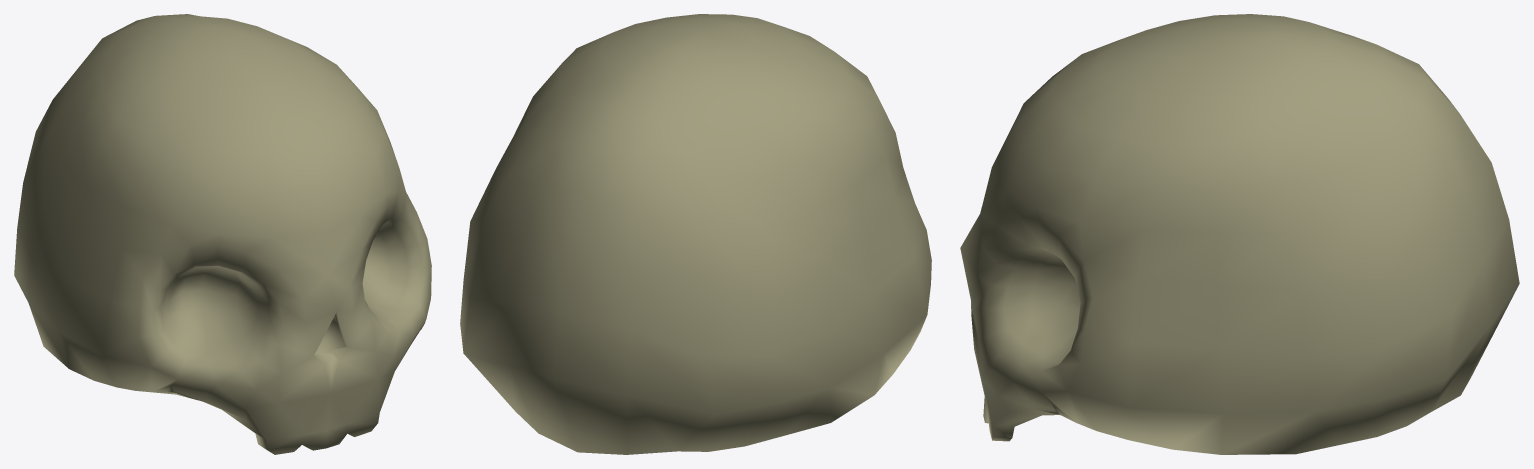
The model's file is skull.fbx.
The picture shows the model from 3 angles, left to right: view 1: azimuth 30°, elevation 25°; view 2: azimuth 150°, elevation 25°; view 3: azimuth 270°, elevation 25°; orthographic projection. The views are drawn at different scales.
Visible parts, largest first — view 1: Sphere; view 2: Sphere; view 3: Sphere.
Part boxes in pixels (left/top/right/bottom): Sphere: left=14, top=14, right=431, bottom=454; Sphere: left=460, top=14, right=931, bottom=454; Sphere: left=960, top=14, right=1519, bottom=454.
Size of the model in its own units: 0.47 by 0.4467 by 0.5893.
